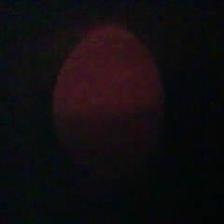fertile: (52, 23, 160, 169)
